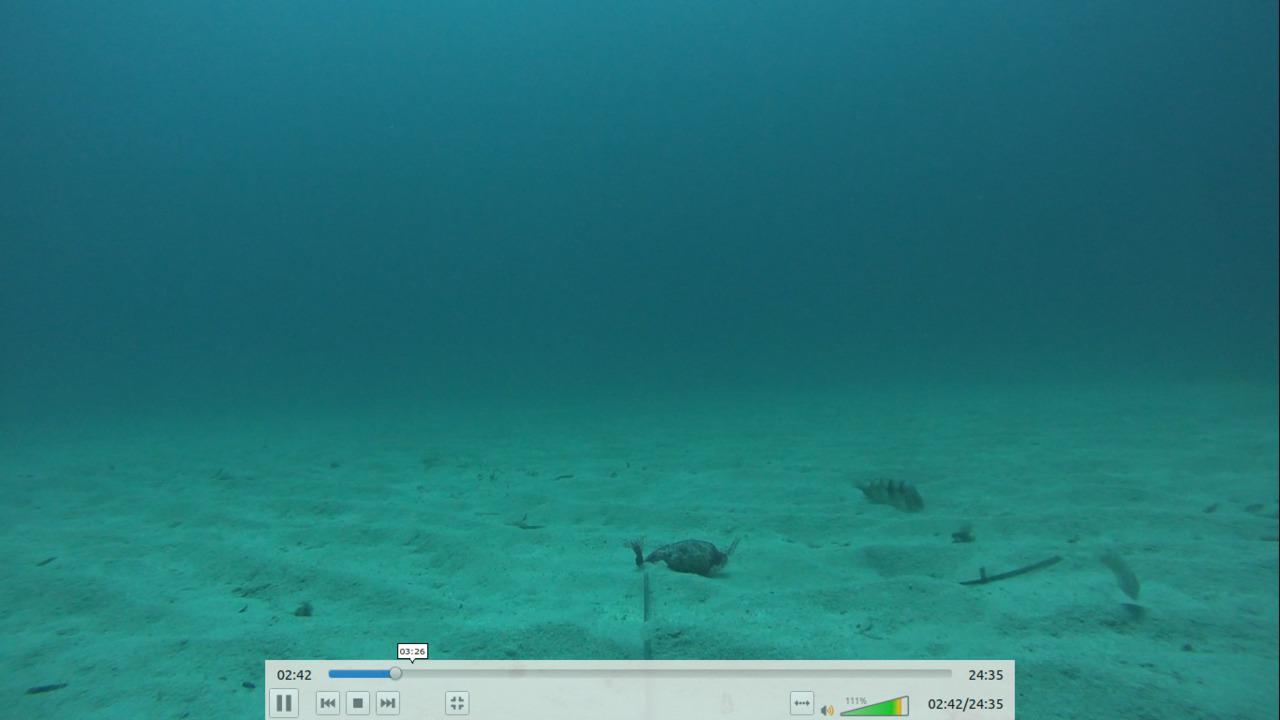raor: (1088, 540, 1147, 607), (841, 473, 925, 515)
